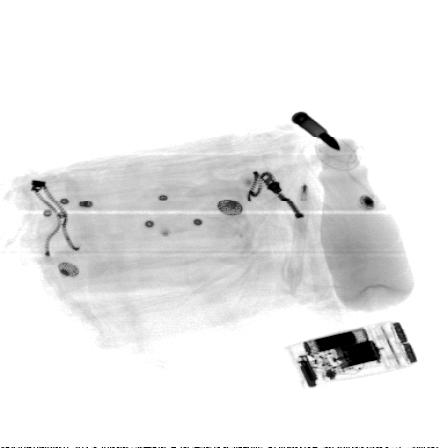Bullet: (292, 109, 342, 152)
